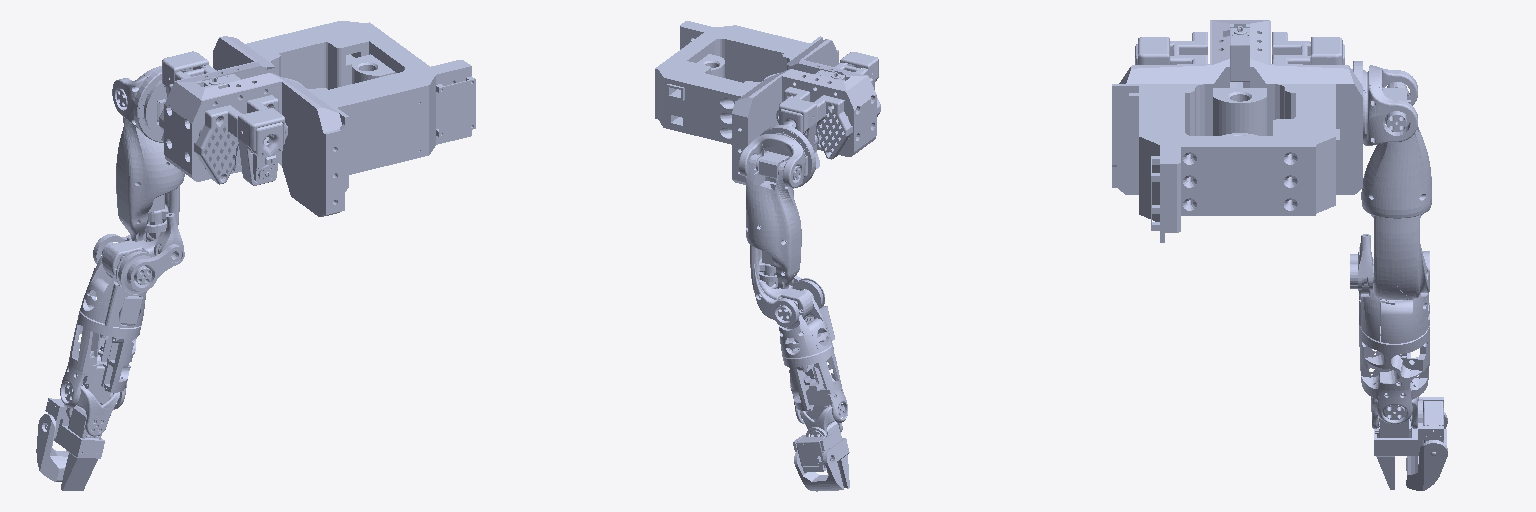
robot.urdf — hopejr:
<?xml version="1.0" encoding="utf-8"?>
<!-- This URDF was automatically created by SolidWorks to URDF Exporter! Originally created by [author] ([email redacted]) 
     Commit Version: 1.6.0-4-g7f85cfe  Build Version: 1.6.7995.38578
     For more information, please see http://wiki.ros.org/sw_urdf_exporter -->
<robot
  name="hopejr">
  <link
    name="base_link">
    <inertial>
      <origin
        xyz="-0.0431076595032378 1.29740138560759 0.0043028385780374"
        rpy="0 0 0" />
      <mass
        value="2.87751988334455" />
      <inertia
        ixx="0.0107502811685928"
        ixy="0.000244284946568019"
        ixz="6.19392890213895E-05"
        iyy="0.0132005727339374"
        iyz="8.08553868796547E-06"
        izz="0.00641753469285797" />
    </inertial>
    <visual>
      <origin
        xyz="0 0 0"
        rpy="0 0 0" />
      <geometry>
        <mesh
          filename="package://hopejr/meshes/base_link.STL" />
      </geometry>
      <material
        name="">
        <color
          rgba="0.792156862745098 0.819607843137255 0.933333333333333 1" />
      </material>
    </visual>
    <collision>
      <origin
        xyz="0 0 0"
        rpy="0 0 0" />
      <geometry>
        <mesh
          filename="package://hopejr/meshes/base_link.STL" />
      </geometry>
    </collision>
  </link>
  <link
    name="right_shoulder_link">
    <inertial>
      <origin
        xyz="-0.00366633048575471 0.073078726035871 -0.000196473271182995"
        rpy="0 0 0" />
      <mass
        value="0.224603109976489" />
      <inertia
        ixx="0.000101500501243235"
        ixy="-6.82749857596955E-06"
        ixz="-2.78106088911714E-08"
        iyy="8.3364414008642E-05"
        iyz="2.54260768286728E-07"
        izz="0.000108145604197816" />
    </inertial>
    <visual>
      <origin
        xyz="0 0 0"
        rpy="0 0 0" />
      <geometry>
        <mesh
          filename="package://hopejr/meshes/right_shoulder_link.STL" />
      </geometry>
      <material
        name="">
        <color
          rgba="0.792156862745098 0.819607843137255 0.933333333333333 1" />
      </material>
    </visual>
    <collision>
      <origin
        xyz="0 0 0"
        rpy="0 0 0" />
      <geometry>
        <mesh
          filename="package://hopejr/meshes/right_shoulder_link.STL" />
      </geometry>
    </collision>
  </link>
  <joint
    name="right_shoulder_joint"
    type="revolute">
    <origin
      xyz="-0.13394 0.048309 1.2772"
      rpy="0 -1.5168 0" />
    <parent
      link="base_link" />
    <child
      link="right_shoulder_link" />
    <axis
      xyz="0 1 0" />
    <limit
      lower="-1.57"
      upper="1.82"
      effort="1"
      velocity="1" />
  </joint>
  <link
    name="right_upper_arm_link">
    <inertial>
      <origin
        xyz="-0.0766992737061696 0.0134044028807087 0.000326638414126834"
        rpy="0 0 0" />
      <mass
        value="0.311238426775694" />
      <inertia
        ixx="0.000138970067331875"
        ixy="3.48842401604284E-05"
        ixz="3.86355381129112E-05"
        iyy="0.000383694121674623"
        iyz="-3.99816700692933E-06"
        izz="0.000295826495250162" />
    </inertial>
    <visual>
      <origin
        xyz="0 0 0"
        rpy="0 0 0" />
      <geometry>
        <mesh
          filename="package://hopejr/meshes/right_upper_arm_link.STL" />
      </geometry>
      <material
        name="">
        <color
          rgba="0.792156862745098 0.819607843137255 0.933333333333333 1" />
      </material>
    </visual>
    <collision>
      <origin
        xyz="0 0 0"
        rpy="0 0 0" />
      <geometry>
        <mesh
          filename="package://hopejr/meshes/right_upper_arm_link.STL" />
      </geometry>
    </collision>
  </link>
  <joint
    name="right_upper_arm_joint"
    type="revolute">
    <origin
      xyz="0 0.1061 0"
      rpy="-0.0081422 0.00061707 0.15128" />
    <parent
      link="right_shoulder_link" />
    <child
      link="right_upper_arm_link" />
    <axis
      xyz="0.053948 0 -0.99854" />
    <limit
      lower="0"
      upper="2.7"
      effort="1"
      velocity="1" />
  </joint>
  <link
    name="right_upper_elbow_link">
    <inertial>
      <origin
        xyz="0.00639564820821042 0.0872557862402017 0.00207119892119237"
        rpy="0 0 0" />
      <mass
        value="0.174621944576985" />
      <inertia
        ixx="0.000144829041674728"
        ixy="-4.96321685692095E-05"
        ixz="1.01056667538789E-07"
        iyy="6.78203462105185E-05"
        iyz="-8.60250275986942E-07"
        izz="0.000196949983254397" />
    </inertial>
    <visual>
      <origin
        xyz="0 0 0"
        rpy="0 0 0" />
      <geometry>
        <mesh
          filename="package://hopejr/meshes/right_upper_elbow_link.STL" />
      </geometry>
      <material
        name="">
        <color
          rgba="0.792156862745098 0.819607843137255 0.933333333333333 1" />
      </material>
    </visual>
    <collision>
      <origin
        xyz="0 0 0"
        rpy="0 0 0" />
      <geometry>
        <mesh
          filename="package://hopejr/meshes/right_upper_elbow_link.STL" />
      </geometry>
    </collision>
  </link>
  <joint
    name="right_upper_elbow_joint"
    type="revolute">
    <origin
      xyz="-0.08378 0.012813 -0.0049334"
      rpy="-1.7223 -1.5168 3.1416" />
    <parent
      link="right_upper_arm_link" />
    <child
      link="right_upper_elbow_link" />
    <axis
      xyz="0 1 0" />
    <limit
      lower="-1.05"
      upper="0.815"
      effort="1"
      velocity="1" />
  </joint>
  <link
    name="right_lower_elbow_link">
    <inertial>
      <origin
        xyz="-0.0384012442069543 -0.00785851125130121 0.0058790671135284"
        rpy="0 0 0" />
      <mass
        value="0.151904197101513" />
      <inertia
        ixx="3.84864381691016E-05"
        ixy="1.17654297661299E-06"
        ixz="6.18266537995094E-06"
        iyy="6.38351264784852E-05"
        iyz="2.40045758350238E-06"
        izz="5.79465269689682E-05" />
    </inertial>
    <visual>
      <origin
        xyz="0 0 0"
        rpy="0 0 0" />
      <geometry>
        <mesh
          filename="package://hopejr/meshes/right_lower_elbow_link.STL" />
      </geometry>
      <material
        name="">
        <color
          rgba="0.792156862745098 0.819607843137255 0.933333333333333 1" />
      </material>
    </visual>
    <collision>
      <origin
        xyz="0 0 0"
        rpy="0 0 0" />
      <geometry>
        <mesh
          filename="package://hopejr/meshes/right_lower_elbow_link.STL" />
      </geometry>
    </collision>
  </link>
  <joint
    name="right_lower_elbow_joint"
    type="revolute">
    <origin
      xyz="0.0382 0.1124 0"
      rpy="-1.964 0.088127 -1.5956" />
    <parent
      link="right_upper_elbow_link" />
    <child
      link="right_lower_elbow_link" />
    <axis
      xyz="0.088013 0.9201 0.38166" />
    <limit
      lower="0"
      upper="2.1"
      effort="1"
      velocity="1" />
  </joint>
  <link
    name="right_forearm_link">
    <inertial>
      <origin
        xyz="-0.0881846820679997 0.00476206023093534 0.0158111800466809"
        rpy="0 0 0" />
      <mass
        value="0.133069954449835" />
      <inertia
        ixx="3.84772229927692E-05"
        ixy="2.20525535400294E-06"
        ixz="2.20248819510205E-06"
        iyy="7.37301593221685E-05"
        iyz="-2.37825033058667E-06"
        izz="5.58558134677147E-05" />
    </inertial>
    <visual>
      <origin
        xyz="0 0 0"
        rpy="0 0 0" />
      <geometry>
        <mesh
          filename="package://hopejr/meshes/right_forearm_link.STL" />
      </geometry>
      <material
        name="">
        <color
          rgba="0.792156862745098 0.819607843137255 0.933333333333333 1" />
      </material>
    </visual>
    <collision>
      <origin
        xyz="0 0 0"
        rpy="0 0 0" />
      <geometry>
        <mesh
          filename="package://hopejr/meshes/right_forearm_link.STL" />
      </geometry>
    </collision>
  </link>
  <joint
    name="right_forearm_joint"
    type="revolute">
    <origin
      xyz="-0.026953 -0.0021421 0.0061395"
      rpy="2.037 0.27473 -0.19155" />
    <parent
      link="right_lower_elbow_link" />
    <child
      link="right_forearm_link" />
    <axis
      xyz="0.98064 -0.072431 -0.18191" />
    <limit
      lower="-2.5"
      upper="2"
      effort="1"
      velocity="1" />
  </joint>
  <link
    name="wrist_pitch_link">
    <inertial>
      <origin
        xyz="-0.000976347199643096 -0.000999459523875756 0.009485362992665"
        rpy="0 0 0" />
      <mass
        value="0.02630660356343" />
      <inertia
        ixx="1.20804580477078E-05"
        ixy="-4.86170177587396E-10"
        ixz="5.17724260973255E-07"
        iyy="1.11915298931713E-05"
        iyz="1.23170082015224E-10"
        izz="1.48646799413629E-05" />
    </inertial>
    <visual>
      <origin
        xyz="0 0 0"
        rpy="0 0 0" />
      <geometry>
        <mesh
          filename="package://hopejr/meshes/wrist_pitch_link.STL" />
      </geometry>
      <material
        name="">
        <color
          rgba="0.792156862745098 0.819607843137255 0.933333333333333 1" />
      </material>
    </visual>
    <collision>
      <origin
        xyz="0 0 0"
        rpy="0 0 0" />
      <geometry>
        <mesh
          filename="package://hopejr/meshes/wrist_pitch_link.STL" />
      </geometry>
    </collision>
  </link>
  <joint
    name="wrist_pitch_joint"
    type="revolute">
    <origin
      xyz="-0.12457 0.0092005 0.023108"
      rpy="-0.57749 -1.3519 0.51486" />
    <parent
      link="right_forearm_link" />
    <child
      link="wrist_pitch_link" />
    <axis
      xyz="0 1 0" />
    <limit
      lower="-0.22"
      upper="0.22"
      effort="1"
      velocity="1" />
  </joint>
  <link
    name="right_tool_link">
    <inertial>
      <origin
        xyz="0.0158573641026411 -0.0334895053506801 0.00140899683962292"
        rpy="0 0 0" />
      <mass
        value="0.109165571976926" />
      <inertia
        ixx="4.79249281327563E-05"
        ixy="-9.89242965029899E-06"
        ixz="8.73272889154573E-08"
        iyy="3.468887871489E-05"
        iyz="3.20459441768457E-08"
        izz="4.89192832751407E-05" />
    </inertial>
    <visual>
      <origin
        xyz="0 0 0"
        rpy="0 0 0" />
      <geometry>
        <mesh
          filename="package://hopejr/meshes/right_tool_link.STL" />
      </geometry>
      <material
        name="">
        <color
          rgba="0.792156862745098 0.819607843137255 0.933333333333333 1" />
      </material>
    </visual>
    <collision>
      <origin
        xyz="0 0 0"
        rpy="0 0 0" />
      <geometry>
        <mesh
          filename="package://hopejr/meshes/right_tool_link.STL" />
      </geometry>
    </collision>
  </link>
  <joint
    name="right_tool_joint"
    type="revolute">
    <origin
      xyz="0 -0.001 0.03"
      rpy="-1.5541 -0.090774 -3.1327" />
    <parent
      link="wrist_pitch_link" />
    <child
      link="right_tool_link" />
    <axis
      xyz="0.99584 0.090485 -0.010374" />
    <limit
      lower="-1.5"
      upper="1.5"
      effort="1"
      velocity="1" />
  </joint>
</robot>

--- What the picture shows (computed from the rendered views, not written in the file) ---
Views: 3 orthographic renders of the robot side by side, from view 1: azimuth 30°, elevation 25°; view 2: azimuth 150°, elevation 25°; view 3: azimuth 270°, elevation 25°.
Robot: hopejr — 8 links, 7 joints (7 revolute); root link base_link; default pose: all joints at 0.
Visible links, largest first — view 1: base_link, right_upper_arm_link, right_forearm_link, right_tool_link, right_upper_elbow_link, right_lower_elbow_link, right_shoulder_link, wrist_pitch_link; view 2: base_link, right_upper_arm_link, right_shoulder_link, right_forearm_link, right_tool_link, right_lower_elbow_link, right_upper_elbow_link, wrist_pitch_link; view 3: base_link, right_upper_arm_link, right_upper_elbow_link, right_tool_link, right_forearm_link, right_shoulder_link, right_lower_elbow_link, wrist_pitch_link.
Boxes of the visible links, box(x1,y1,x2,y2) form: base_link: box(159, 21, 475, 216); right_upper_arm_link: box(116, 89, 184, 241); right_forearm_link: box(60, 311, 141, 409); right_tool_link: box(36, 398, 104, 490); right_upper_elbow_link: box(93, 186, 184, 291); right_lower_elbow_link: box(80, 242, 154, 327); right_shoulder_link: box(112, 66, 166, 142); wrist_pitch_link: box(65, 383, 119, 436); base_link: box(655, 21, 880, 184); right_upper_arm_link: box(746, 154, 801, 288); right_shoulder_link: box(739, 125, 819, 188); right_forearm_link: box(782, 343, 847, 423); right_tool_link: box(793, 421, 849, 491); right_lower_elbow_link: box(778, 278, 834, 357); right_upper_elbow_link: box(750, 245, 812, 327); wrist_pitch_link: box(800, 402, 844, 436); base_link: box(1112, 20, 1362, 242); right_upper_arm_link: box(1361, 82, 1431, 218); right_upper_elbow_link: box(1350, 215, 1429, 299); right_tool_link: box(1374, 397, 1447, 490); right_forearm_link: box(1359, 325, 1429, 423); right_shoulder_link: box(1352, 61, 1417, 145); right_lower_elbow_link: box(1358, 247, 1429, 343); wrist_pitch_link: box(1371, 397, 1418, 428).
Bounding box of the posed robot: 0.3968 × 0.331 × 0.541 m (x, y, z).
Meshes: 8 distinct files referenced, 8 mesh visuals loaded (8 binary STL).
